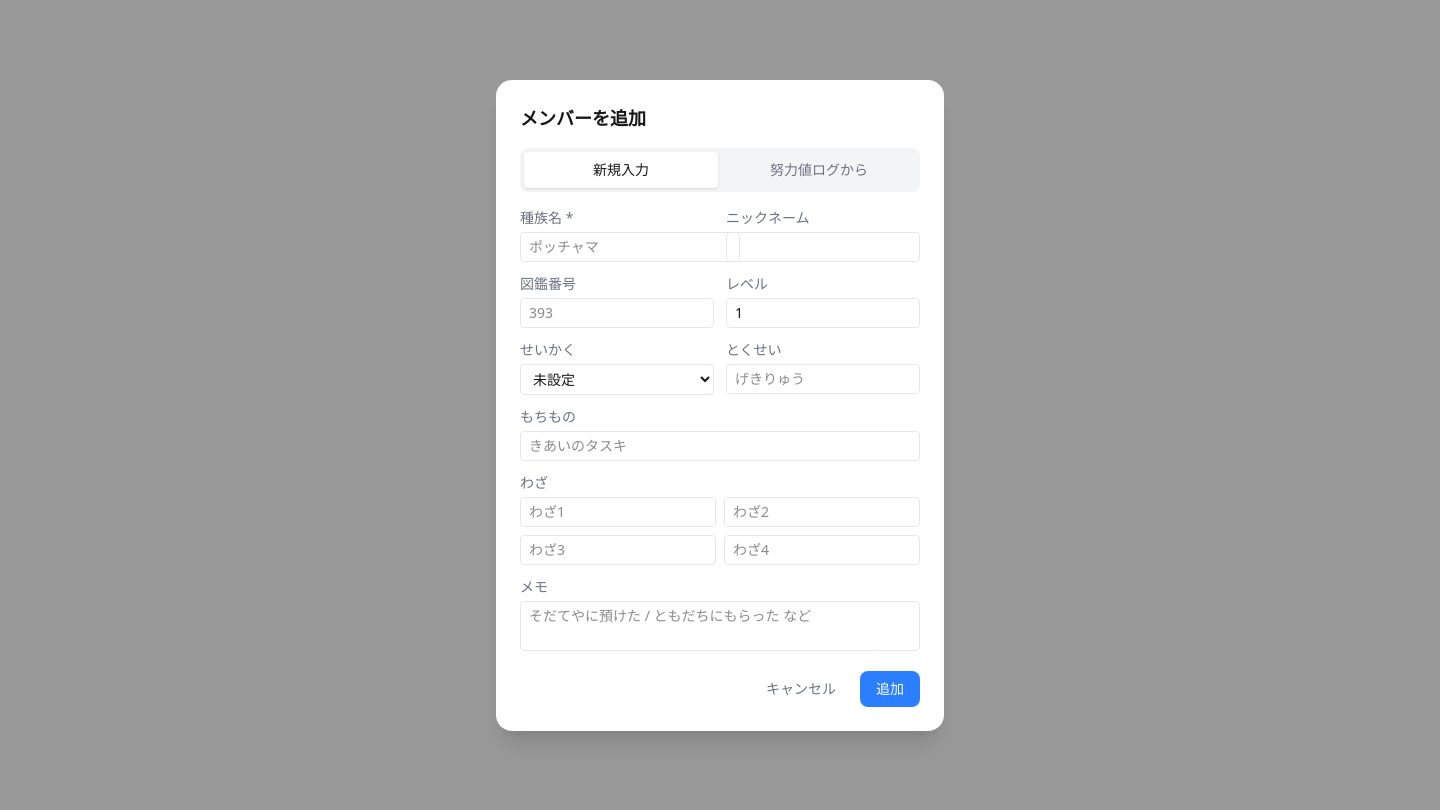
AddPartyMemberModal › log tab with entries: button per entry; picking reveals prefilled form + hint
The width and height of the screenshot is (1440, 810).
Click the button "努力値ログから". click: (819, 170)
box: x1=722 y1=152 x2=916 y2=188
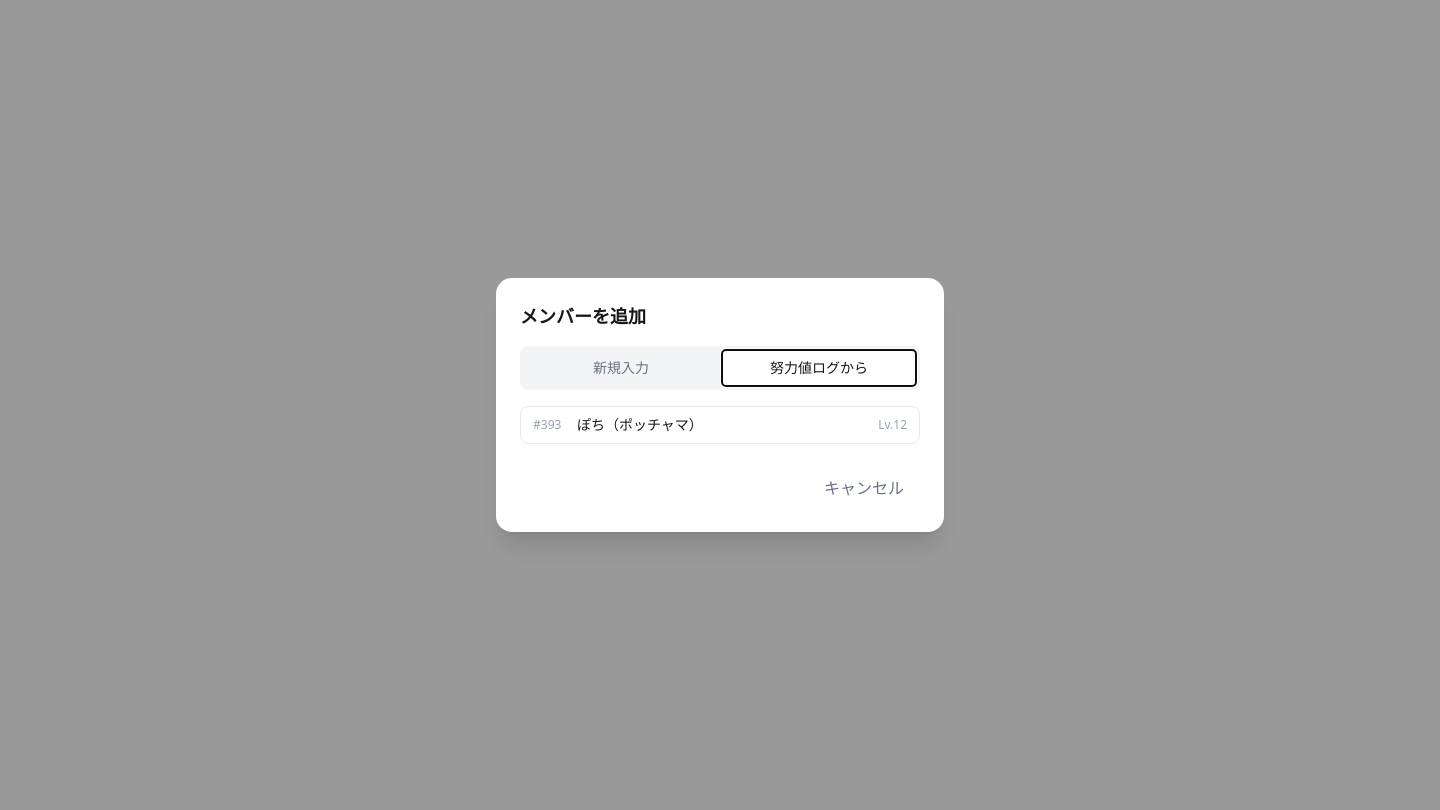
Expected: the button "#393 ぽち（ポッチャマ） Lv.12" is shown
Click the button "#393 ぽち（ポッチャマ） Lv.12". click: (640, 424)
box: x1=520 y1=406 x2=920 y2=444
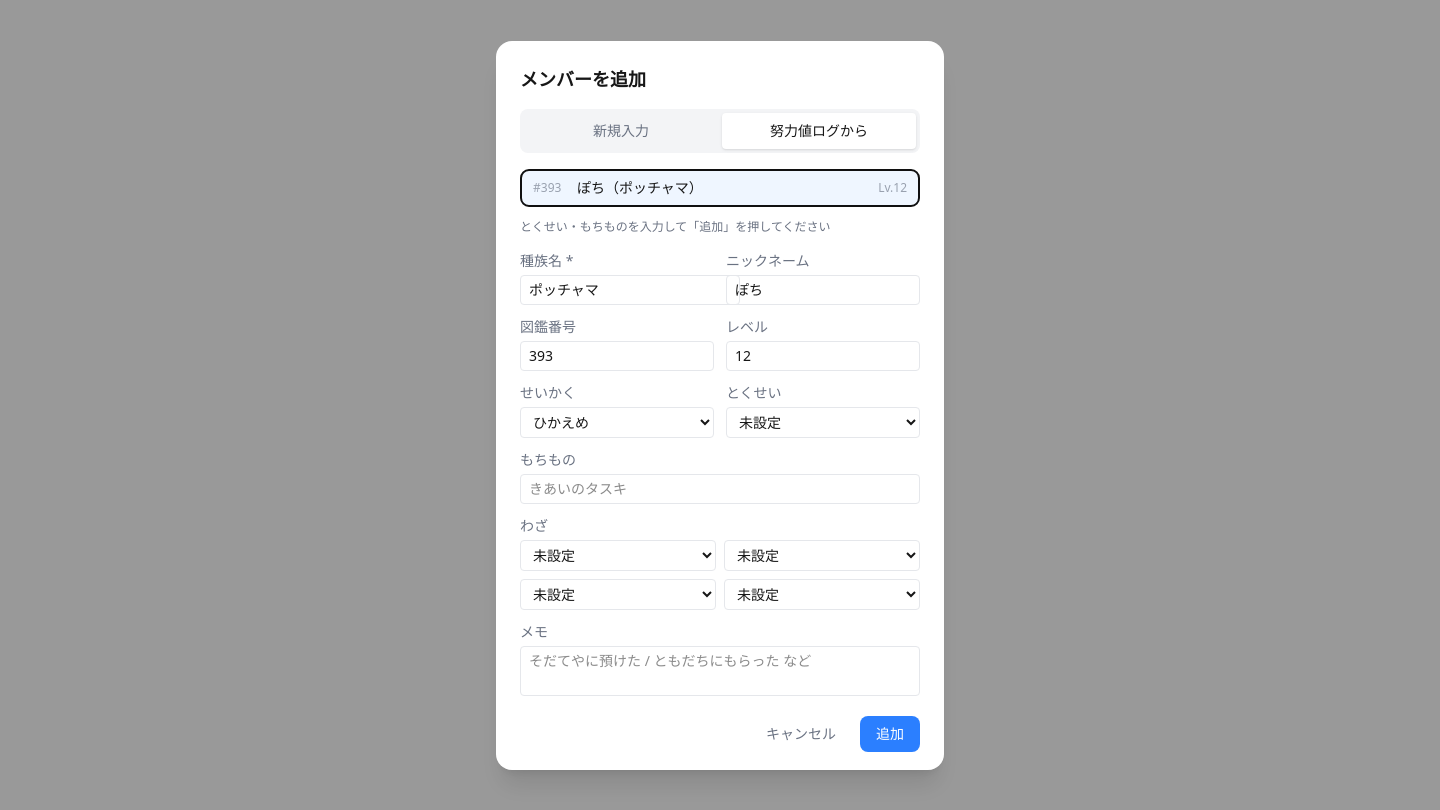
Expected: the text "とくせい・もちものを入力して「追加」を押してください" is shown, x1=520 y1=218 x2=831 y2=234
Expected: the dropdown with placeholder "ポッチャマ" holds "ポッチャマ", x1=520 y1=274 x2=740 y2=304
Expected: the number field with placeholder "393" holds "393", x1=520 y1=340 x2=714 y2=370
